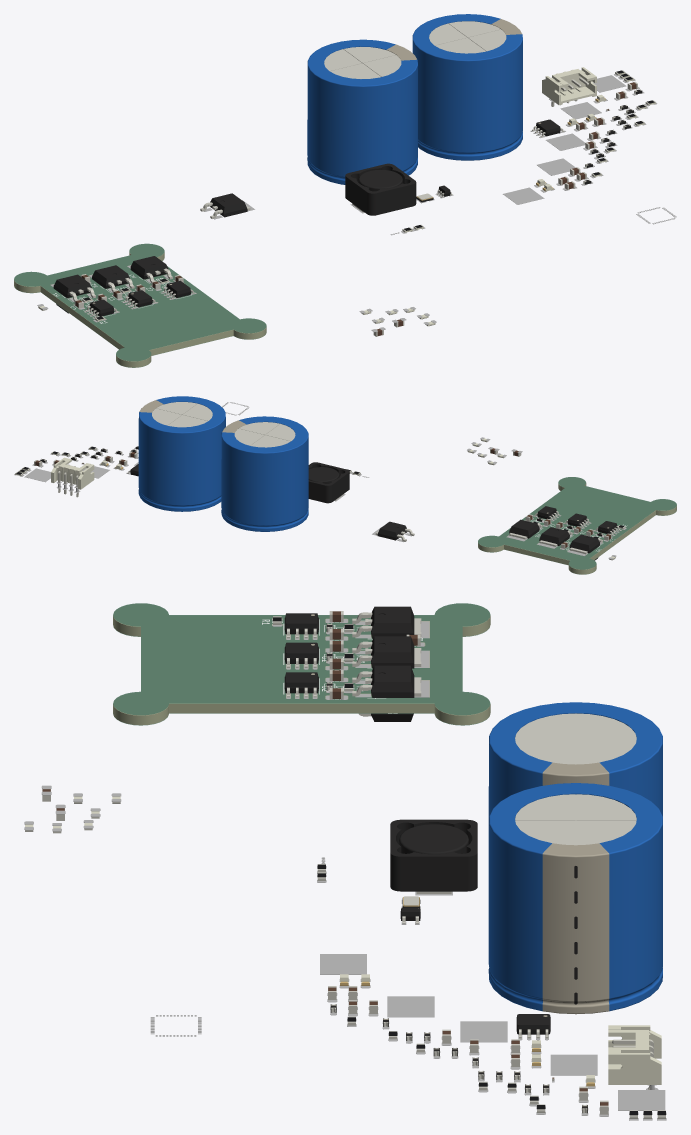
The model's file is board.glb.
3 renders of one model, top to bottom at view 1: azimuth 30°, elevation 25°; view 2: azimuth 150°, elevation 25°; view 3: azimuth 270°, elevation 25°, orthographic. The views are drawn at different scales.
Visible parts, largest first — view 1: CP_Radial_D250mm_P1000mm_SnapIn (×2), board_PCB, board_soldermask, board_pad, SRR1260, 932d09b3-9c39-11ed-93f0-dde97e994e83_part (×4), JST_S4B_PH_K; view 2: CP_Radial_D250mm_P1000mm_SnapIn (×2), board_PCB, board_soldermask, board_pad, 932d09b3-9c39-11ed-93f0-dde97e994e83_part (×4), SRR1260, JST_S4B_PH_K; view 3: CP_Radial_D250mm_P1000mm_SnapIn (×2), board_PCB, board_soldermask, board_pad, SRR1260, 932d09b3-9c39-11ed-93f0-dde97e994e83_part (×3), JST_S4B_PH_K, SOIC-8_3.9x4.9mm_P1.27mm (×3), SOIC-8-1EP_3.9x4.9mm_P1.27mm_EP2.29x3mm.
Part boxes in pixels (<box>): CP_Radial_D250mm_P1000mm_SnapIn (×2): <box>307,14,522,184</box>; board_PCB: <box>14,244,266,367</box>; board_soldermask: <box>14,243,266,361</box>; board_pad: <box>37,72,676,332</box>; SRR1260: <box>345,163,416,215</box>; 932d09b3-9c39-11ed-93f0-dde97e994e83_part (×4): <box>53,193,247,298</box>; JST_S4B_PH_K: <box>542,67,596,106</box>; CP_Radial_D250mm_P1000mm_SnapIn (×2): <box>138,396,308,531</box>; board_PCB: <box>478,477,676,574</box>; board_soldermask: <box>478,477,676,569</box>; board_pad: <box>14,402,626,559</box>; 932d09b3-9c39-11ed-93f0-dde97e994e83_part (×4): <box>377,519,599,553</box>; SRR1260: <box>308,462,349,503</box>; JST_S4B_PH_K: <box>51,457,94,497</box>; CP_Radial_D250mm_P1000mm_SnapIn (×2): <box>488,702,662,1014</box>; board_PCB: <box>113,604,490,725</box>; board_soldermask: <box>113,603,490,715</box>; board_pad: <box>24,618,666,1120</box>; SRR1260: <box>390,819,477,893</box>; 932d09b3-9c39-11ed-93f0-dde97e994e83_part (×3): <box>371,606,414,697</box>; JST_S4B_PH_K: <box>608,1025,661,1089</box>; SOIC-8_3.9x4.9mm_P1.27mm (×3): <box>284,613,318,697</box>; SOIC-8-1EP_3.9x4.9mm_P1.27mm_EP2.29x3mm: <box>516,1014,550,1038</box>.
Size of the model in its own units: 0.1753 by 0.029 by 0.0919.
